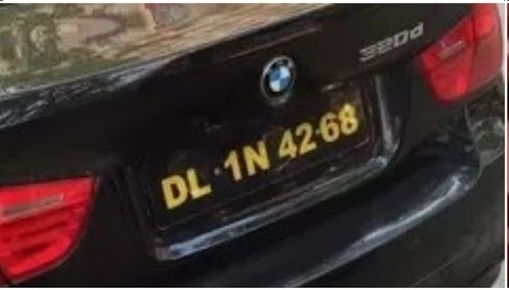plate: (124, 110, 400, 207)
